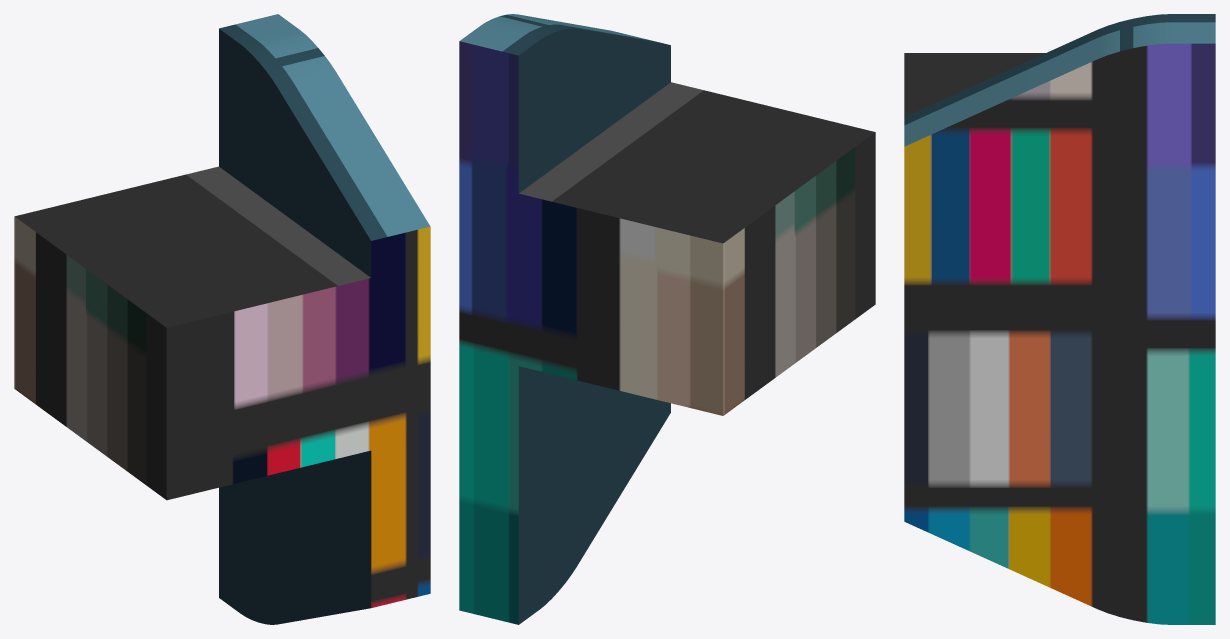
File: tile_6_1_2.gltf
3 renders of one model, left to right at view 1: azimuth 30°, elevation 25°; view 2: azimuth 150°, elevation 25°; view 3: azimuth 270°, elevation 25°, orthographic. The views are drawn at different scales.
Parts seen in each view (by area): view 1: arena.floor.main.031, arena.sides.high.037; view 2: arena.floor.main.031, arena.sides.high.037; view 3: arena.sides.high.037, arena.floor.main.031.
Part boxes in pixels (x1=…): arena.floor.main.031: x1=14, y1=166, x2=371, y2=500; arena.sides.high.037: x1=219, y1=14, x2=430, y2=624; arena.floor.main.031: x1=518, y1=82, x2=875, y2=415; arena.sides.high.037: x1=459, y1=14, x2=670, y2=624; arena.sides.high.037: x1=904, y1=14, x2=1215, y2=624; arena.floor.main.031: x1=904, y1=53, x2=1045, y2=116.
Size of the model in its own units: 8 by 16.5 by 8.
1 material, 1 textured.
